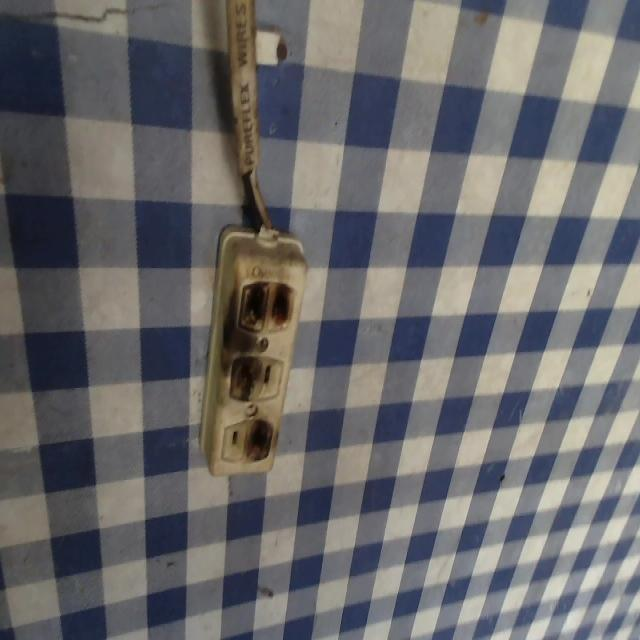-: (234, 274, 293, 334), (225, 351, 262, 401), (246, 419, 274, 464)
